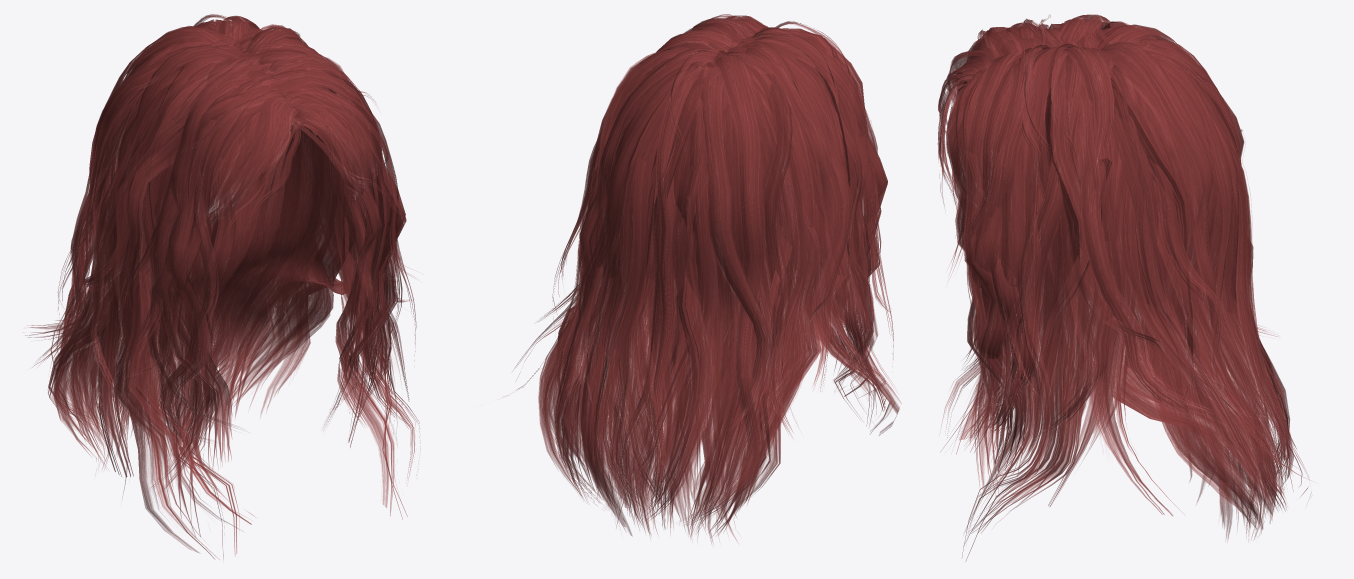
File: medium-hair-transformed.glb
3 views of the same model, side by side, from view 1: azimuth 30°, elevation 25°; view 2: azimuth 150°, elevation 25°; view 3: azimuth 270°, elevation 25° (orthographic). The views are drawn at different scales.
Parts seen in each view (by area): view 1: Object_5; view 2: Object_5; view 3: Object_5.
Boxes of the visible parts, bbox=[...] form: Object_5: bbox=[25, 14, 419, 559]; Object_5: bbox=[508, 14, 901, 543]; Object_5: bbox=[937, 14, 1311, 561].
Size of the model in its own units: 15.14 by 21.11 by 14.71.
Materials: 1 (1 with a texture image).
